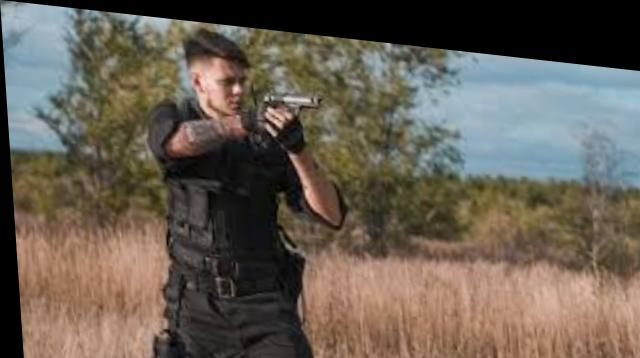other: (126, 17, 353, 356)
